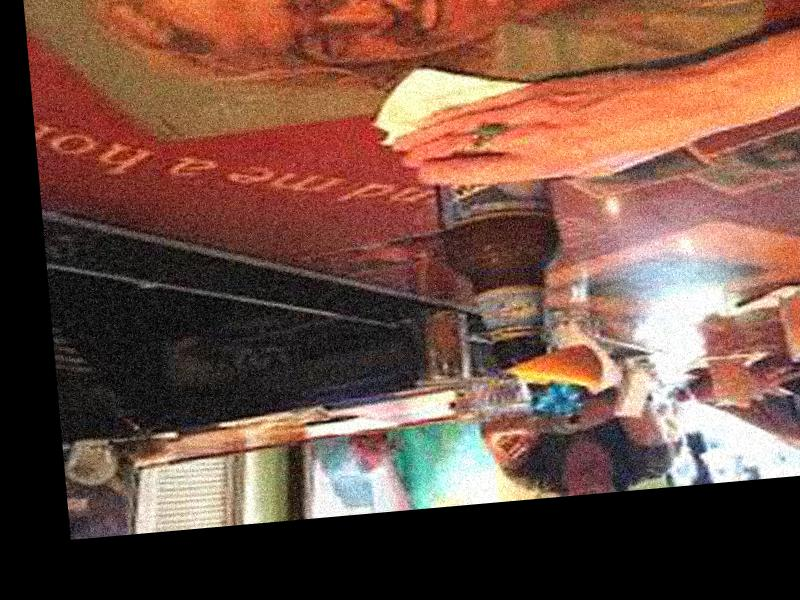Beer: (424, 99, 563, 379)
